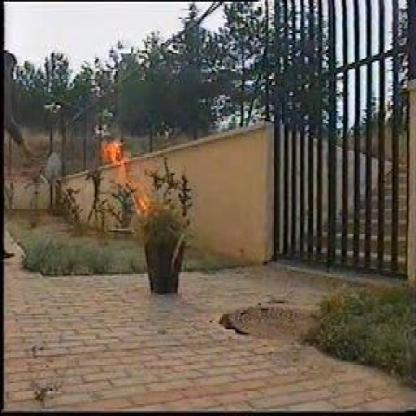foggia-v2-map80-epoch100 - v1 4323: (104, 142, 129, 170)
